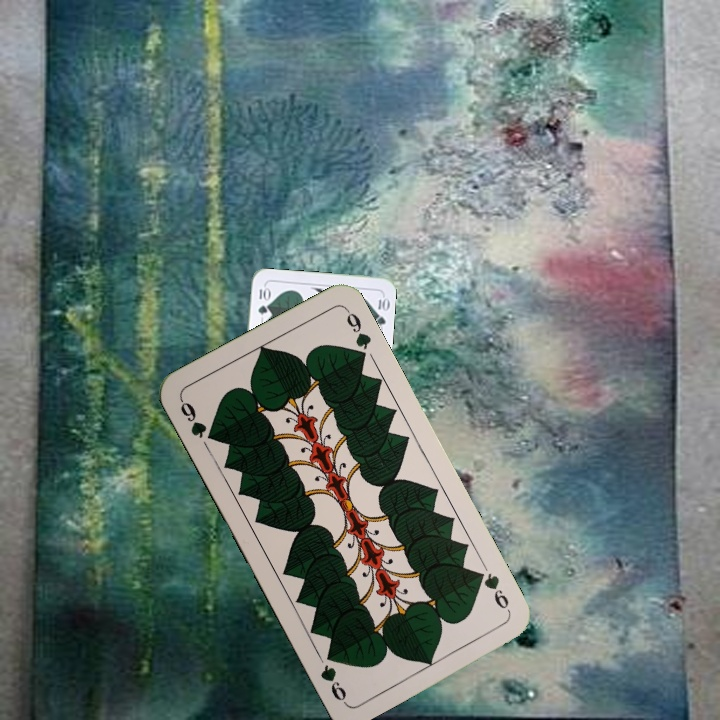G10: (254, 284, 271, 317)
G9: (176, 395, 219, 444), (471, 566, 513, 616)
